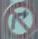Don't turn right: (2, 4, 35, 38)
